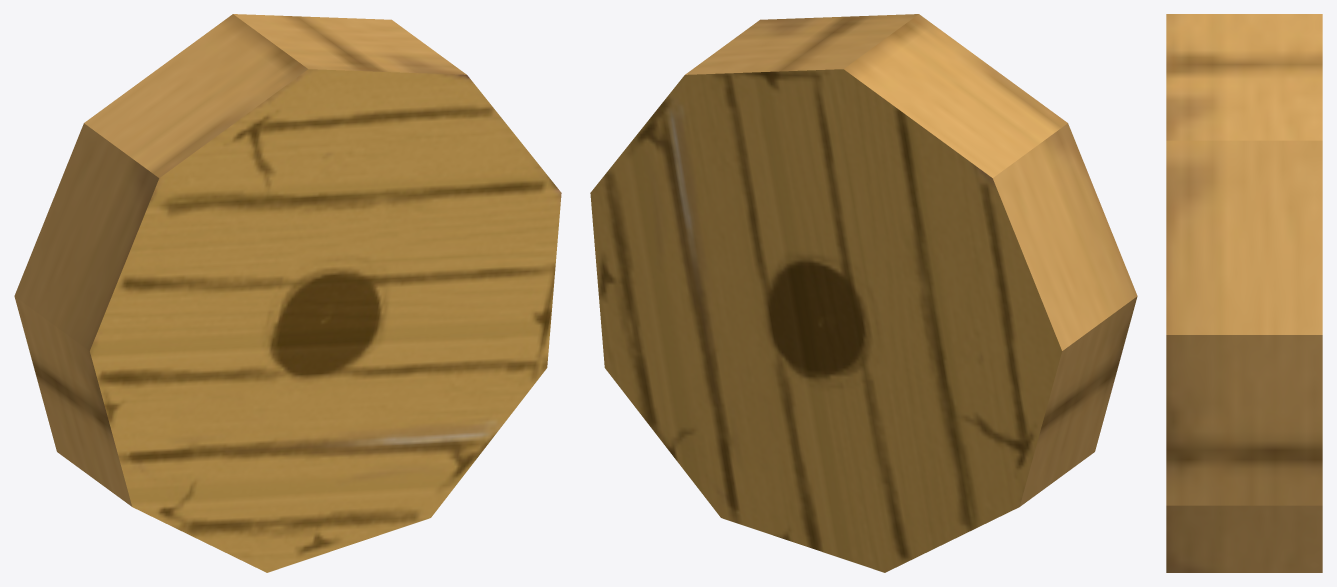
The model's file is CatapultaLlanta.fbx.
3 views of the same model, side by side, from view 1: azimuth 30°, elevation 25°; view 2: azimuth 150°, elevation 25°; view 3: azimuth 270°, elevation 25° (orthographic). The views are drawn at different scales.
Visible parts, largest first — view 1: polySurface3; view 2: polySurface3; view 3: polySurface3.
Boxes of the visible parts, x1,y1,x2,y2 form: polySurface3: (14, 14, 561, 572); polySurface3: (590, 14, 1137, 572); polySurface3: (1166, 14, 1322, 572).
Bounding box in the file's own units: 119 × 119 × 32.99.
